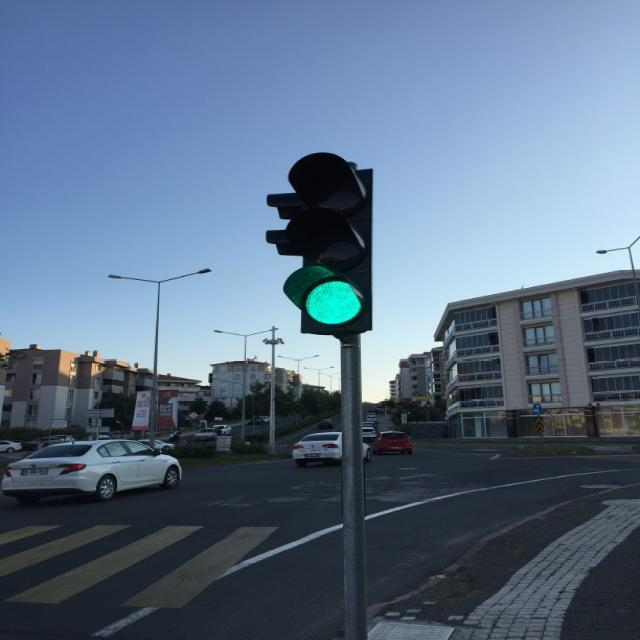yesil: (286, 154, 374, 338)
